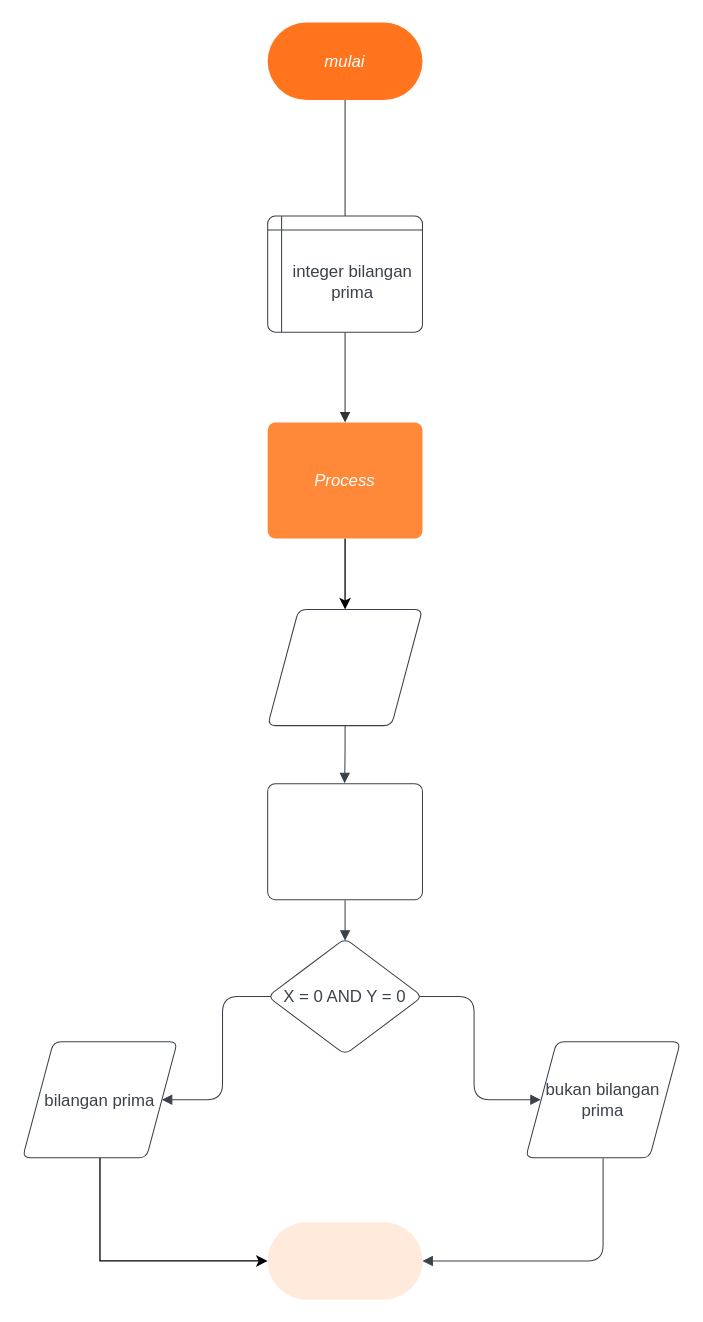
This 703x1322 diagram has some shape labels left out. Each missing label, with the box of its shape:
memasukakn bilangan: (267, 608, 422, 725)
selesai: (267, 1221, 422, 1300)
x= bilanghan mod%1 y= biilangan mod% bilangan: (267, 783, 422, 900)
